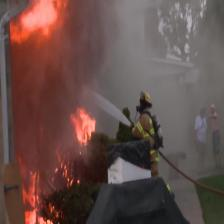fire: (10, 0, 69, 43), (22, 157, 54, 224), (70, 108, 97, 146)
